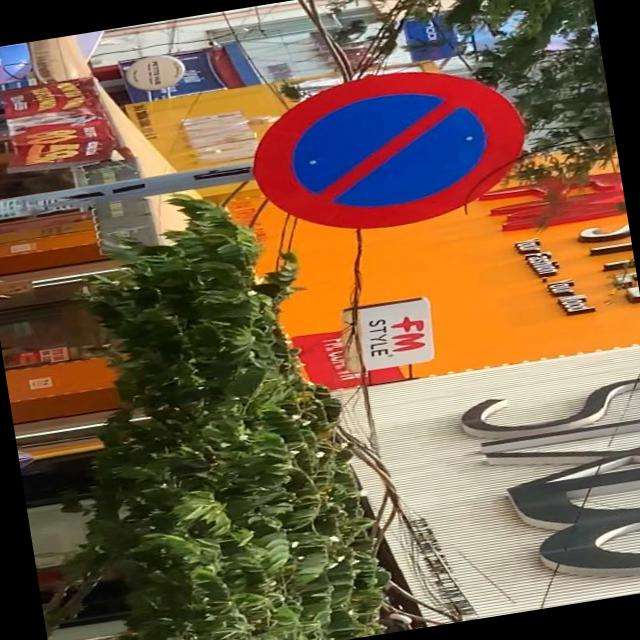P-131a: (242, 55, 538, 247)
